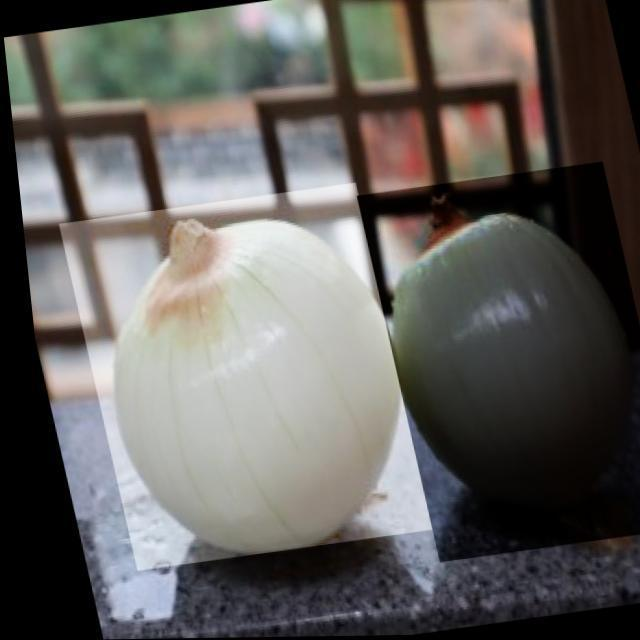Onion: (51, 183, 425, 571), (349, 163, 640, 564)
